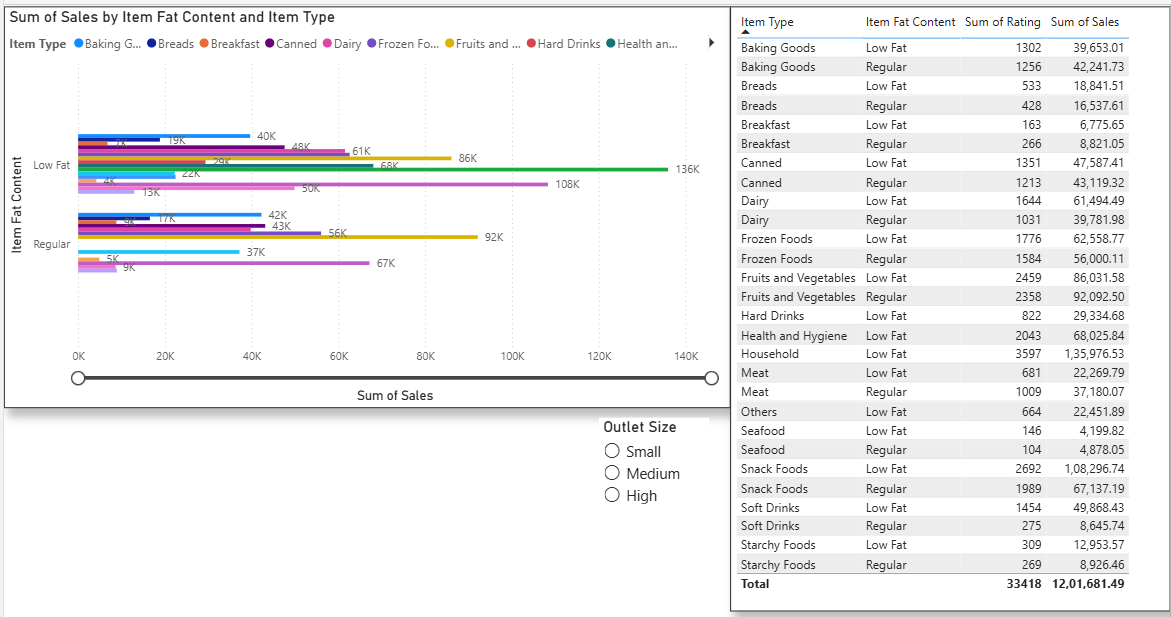

The dashboard page shown, as its layout file describes it:
{"tool":"powerbi","page":{"name":"Comparative Analysis","canvas":[1280,720],"ordinal":4},"visuals":[{"type":"clusteredBarChart","fields":{"Y":["Sum(BlinkIT Grocery Data.Sales)"],"Category":["BlinkIT Grocery Data.Item Fat Content"],"Series":["BlinkIT Grocery Data.Item Type"]},"box":[0,46.7,797.3,440.5],"z":0},{"type":"tableEx","fields":{"Values":["BlinkIT Grocery Data.Item Type","BlinkIT Grocery Data.Item Fat Content","Sum(BlinkIT Grocery Data.Rating)","Sum(BlinkIT Grocery Data.Sales)"]},"box":[797.3,46.7,483,664.2],"z":1000},{"type":"listSlicer","fields":{"Values":["BlinkIT Grocery Data.Outlet Size"]},"box":[653.2,498.1,120.8,222.3],"z":2000}]}

Visuals, with their boxes on the page's 1280x720 design canvas (x1, y1, x2, y2). These are canvas units, not pixel positions in the 1171x617 screenshot, which may show the page scaled, cropped or inside an application window:
clusteredBarChart - Sum(BlinkIT Grocery Data.Sales) x BlinkIT Grocery Data.Item Fat Content: 0, 47, 797, 487
tableEx - BlinkIT Grocery Data.Item Type x BlinkIT Grocery Data.Item Fat Content: 797, 47, 1280, 711
listSlicer - BlinkIT Grocery Data.Outlet Size: 653, 498, 774, 720
